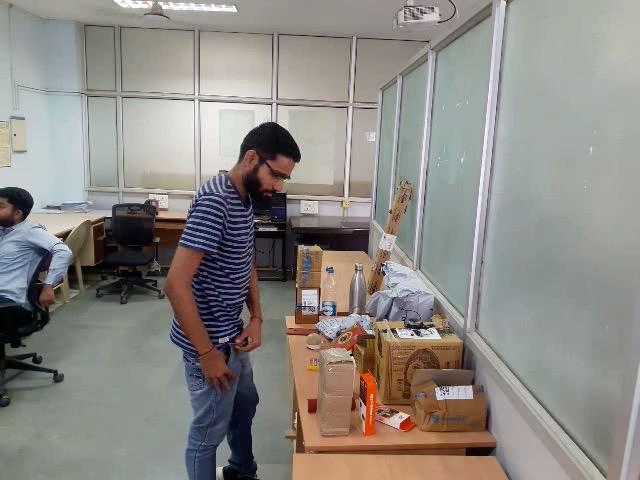shoplifting: (109, 279, 301, 409)
